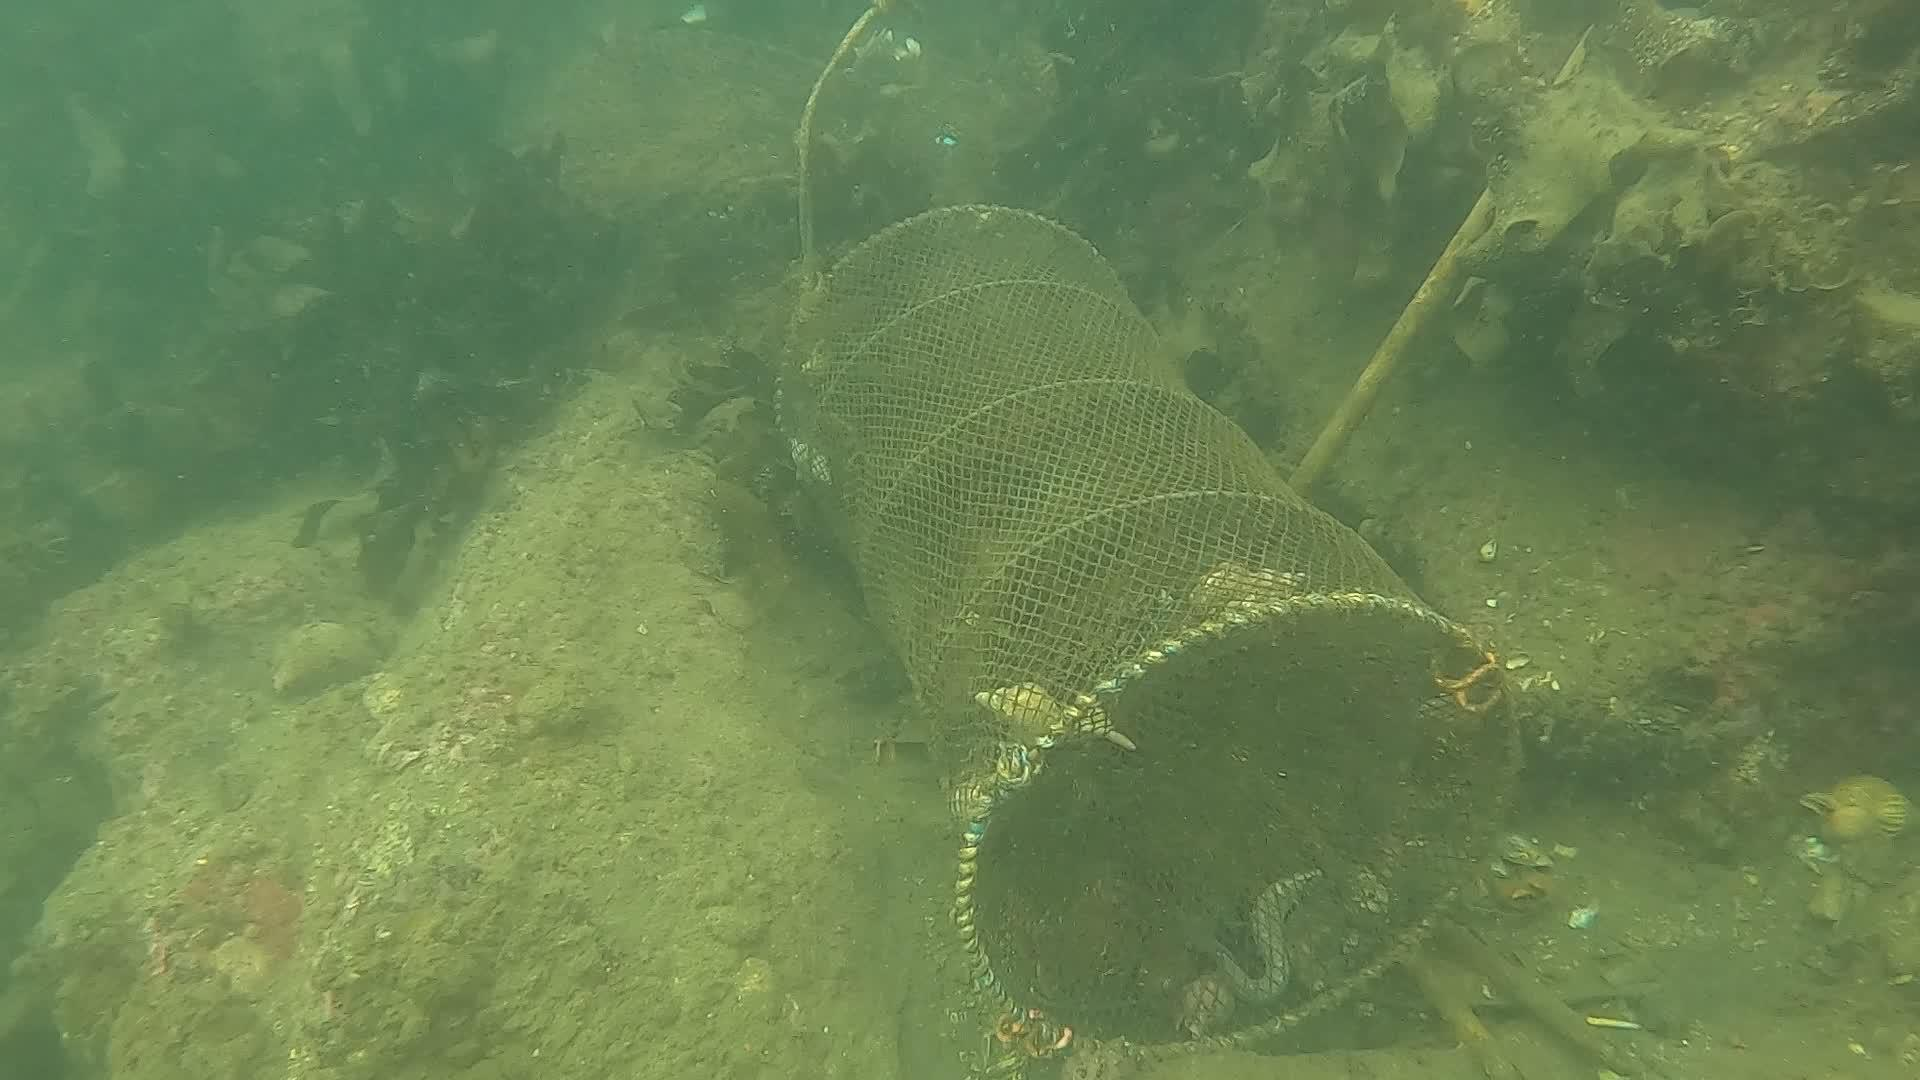spring fish trap: (766, 196, 1528, 1065)
